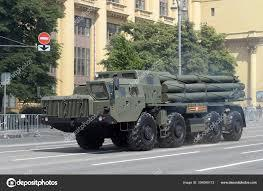MIL_SAM_TEL: (39, 68, 245, 152)
